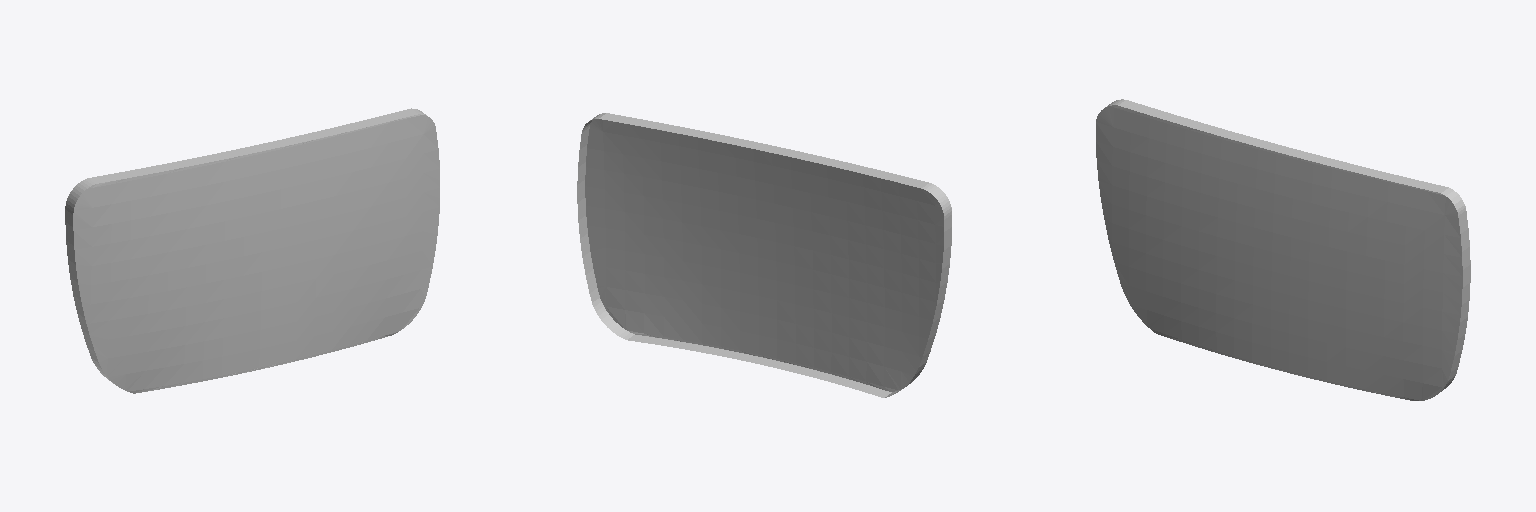
The model's file is original-12.obj.
The picture shows the model from 3 angles: view 1: azimuth 30°, elevation 25°; view 2: azimuth 150°, elevation 25°; view 3: azimuth 330°, elevation 25°; orthographic projection.
Visible parts, largest first — view 1: Group8/mesh8/mesh8-geometry#mesh8-geometry; view 2: Group8/mesh8/mesh8-geometry#mesh8-geometry; view 3: Group8/mesh8/mesh8-geometry#mesh8-geometry.
Part boxes in pixels (x1,y1,x2,y2): Group8/mesh8/mesh8-geometry#mesh8-geometry: (65,108,439,393); Group8/mesh8/mesh8-geometry#mesh8-geometry: (577,113,951,397); Group8/mesh8/mesh8-geometry#mesh8-geometry: (1096,99,1470,400).
Bounding box in the file's own units: 0.4765 × 0.2774 × 0.0321.